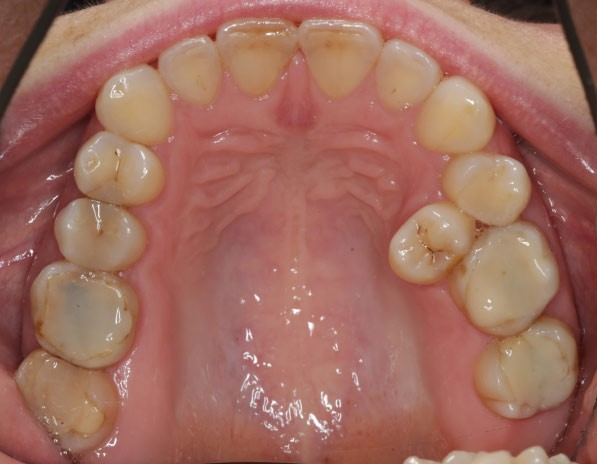UL1BC_healthy: (446, 151, 528, 218)
UL1M_healthy: (476, 328, 581, 415)
UL2BC_healthy: (463, 232, 558, 326)
ULCI_decay: (298, 17, 380, 95)
ULC_healthy: (418, 81, 494, 151)
ULLI_healthy: (380, 38, 437, 111)
UR1BC_healthy: (77, 136, 165, 201)
UR1M_healthy: (30, 265, 136, 363)
UR2BC_healthy: (54, 199, 147, 268)
UR2M_healthy: (19, 358, 122, 443)
URCI_decay: (220, 20, 295, 90)
URC_healthy: (97, 69, 176, 143)
URLI_healthy: (162, 39, 220, 97)
